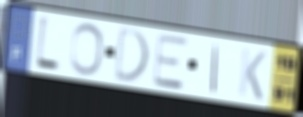D: (111, 24, 151, 84)
E: (151, 33, 190, 92)
I: (209, 41, 221, 96)
K: (236, 45, 269, 103)
L: (33, 13, 63, 75)
O: (68, 21, 105, 78)
